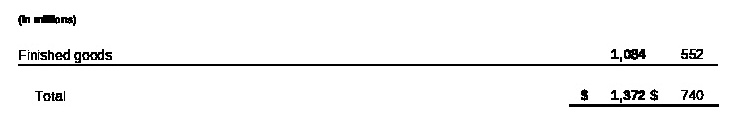table: (0, 0, 732, 121)
